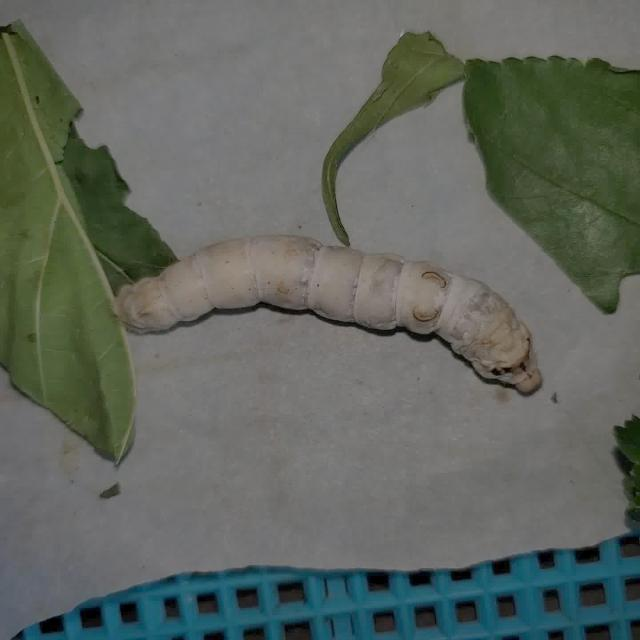Grasserie: (89, 202, 579, 434)
